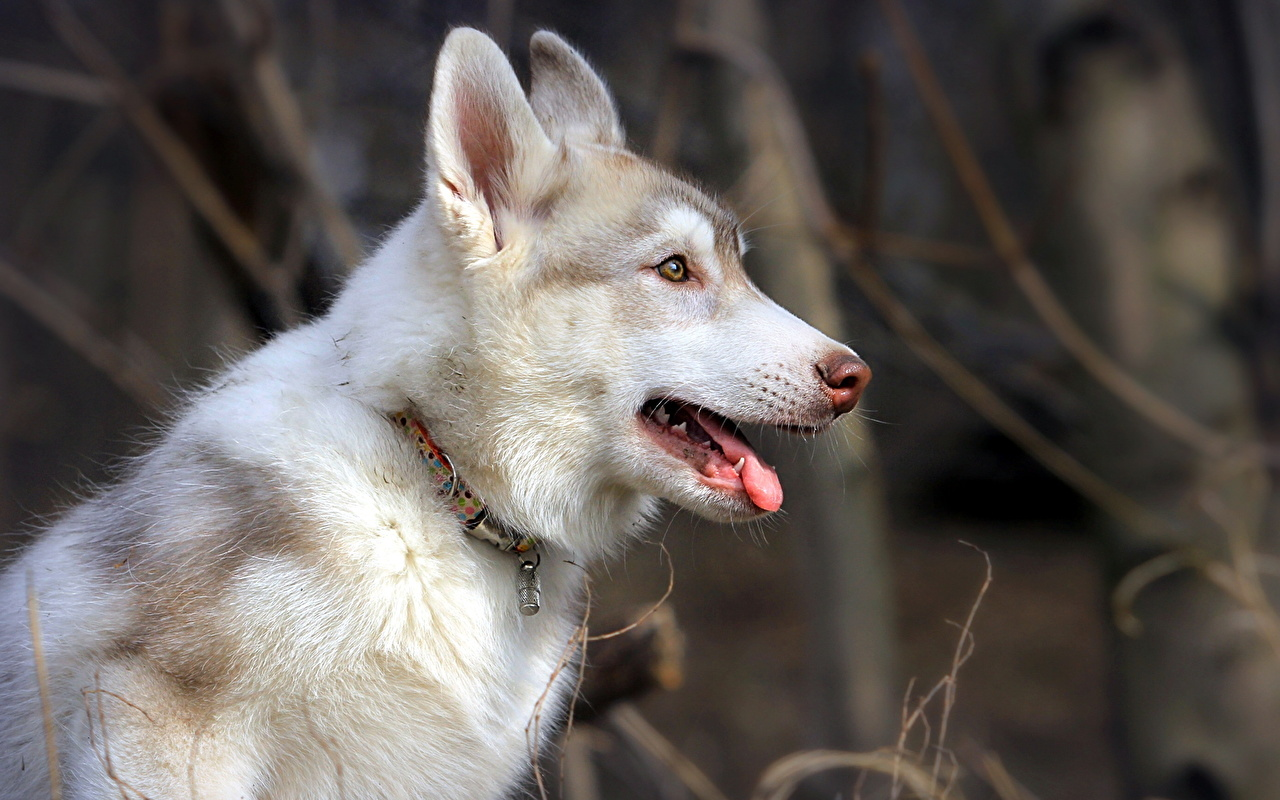husky: (259, 16, 903, 671)
